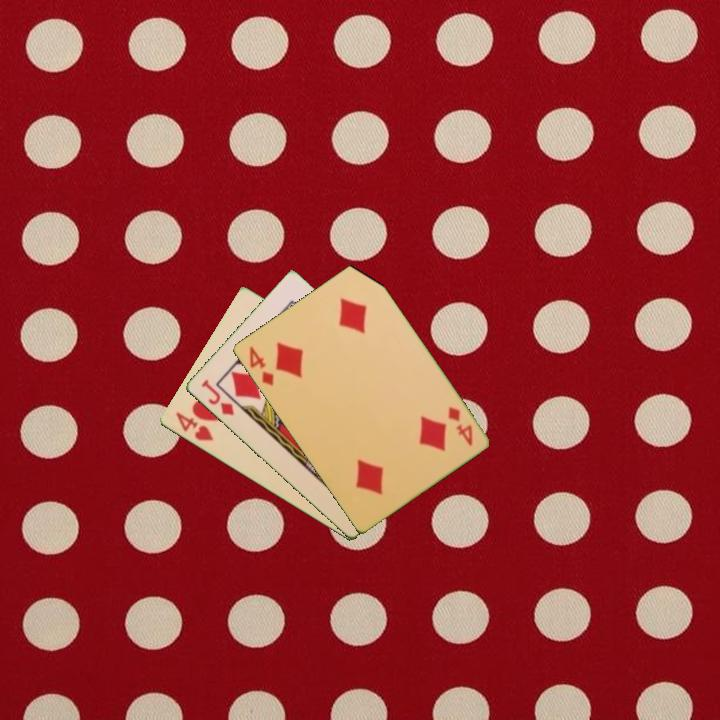4d: (245, 343, 277, 389), (444, 403, 475, 449)
4h: (171, 408, 216, 444)
Jd: (197, 376, 237, 419)
